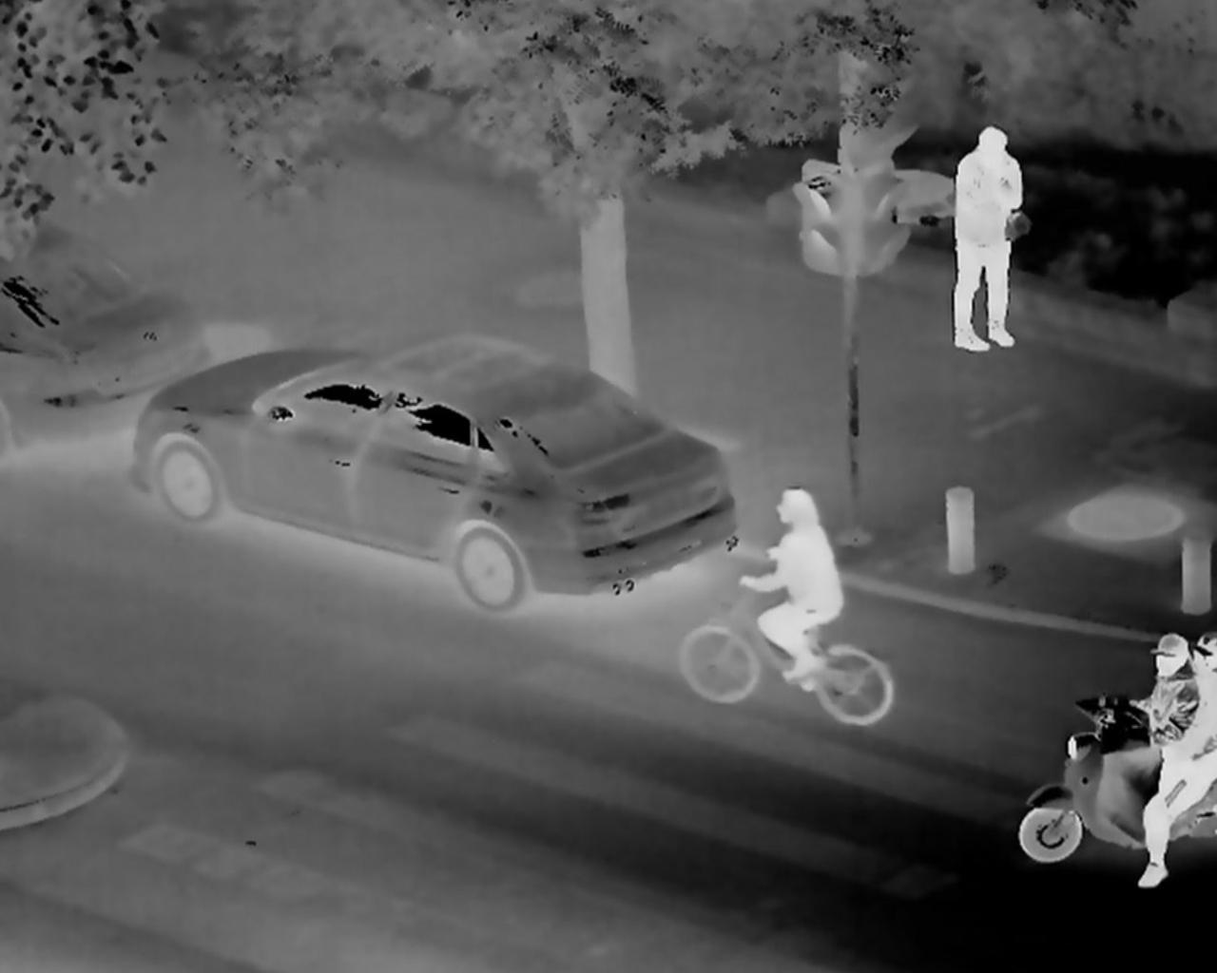person: (718, 481, 863, 699), (948, 117, 1051, 364), (1114, 628, 1199, 888), (1193, 633, 1217, 793)
